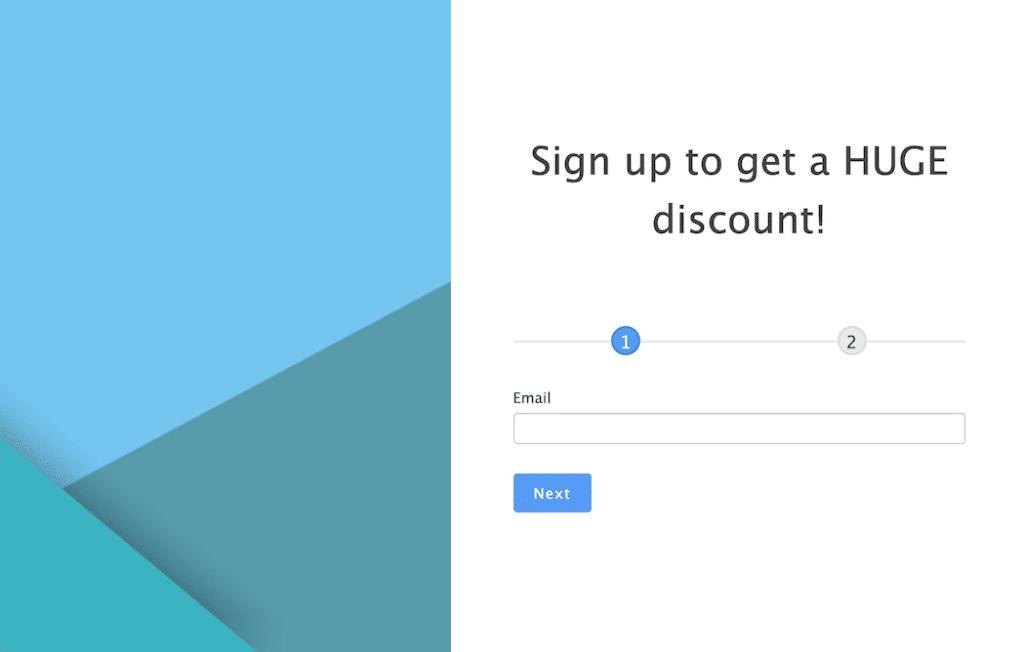button: (512, 473, 594, 515)
input: (516, 414, 964, 446)
